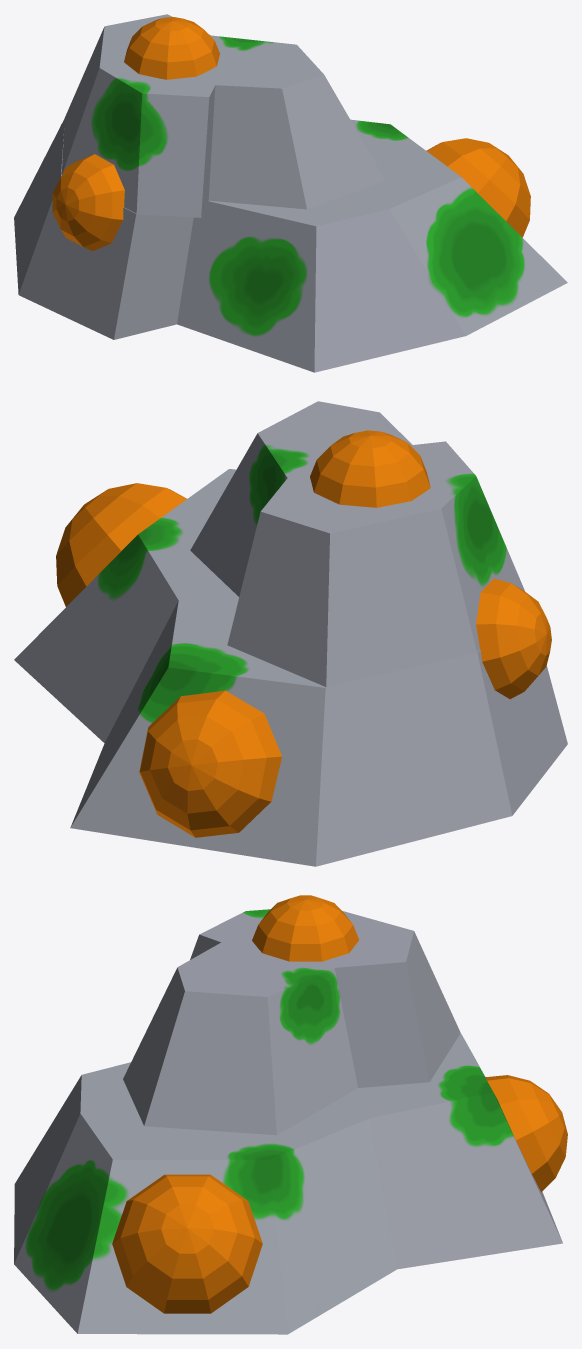
File: AmbarMusgo1.fbx
3 views of the same model, one above another, from view 1: azimuth 30°, elevation 25°; view 2: azimuth 150°, elevation 25°; view 3: azimuth 270°, elevation 25° (orthographic). The views are drawn at different scales.
Visible parts, largest first — view 1: base.035, Sphere.004, Sphere.006, ambar.012; view 2: base.035, Sphere.005, Sphere.006, ambar.012, Sphere.004; view 3: base.035, Sphere.006, ambar.012, Sphere.005.
Part boxes in pixels (bbox=[...]): base.035: bbox=[14, 14, 567, 372]; Sphere.004: bbox=[52, 154, 124, 251]; Sphere.006: bbox=[426, 138, 530, 237]; ambar.012: bbox=[124, 17, 219, 79]; base.035: bbox=[14, 401, 567, 866]; Sphere.005: bbox=[139, 690, 281, 837]; Sphere.006: bbox=[56, 483, 186, 606]; ambar.012: bbox=[310, 430, 430, 507]; Sphere.004: bbox=[476, 578, 551, 699]; base.035: bbox=[14, 909, 562, 1334]; Sphere.006: bbox=[112, 1174, 262, 1313]; ambar.012: bbox=[252, 895, 358, 961]; Sphere.005: bbox=[485, 1075, 567, 1191].
Bounding box in the file's own units: 134 × 76.14 × 137.
